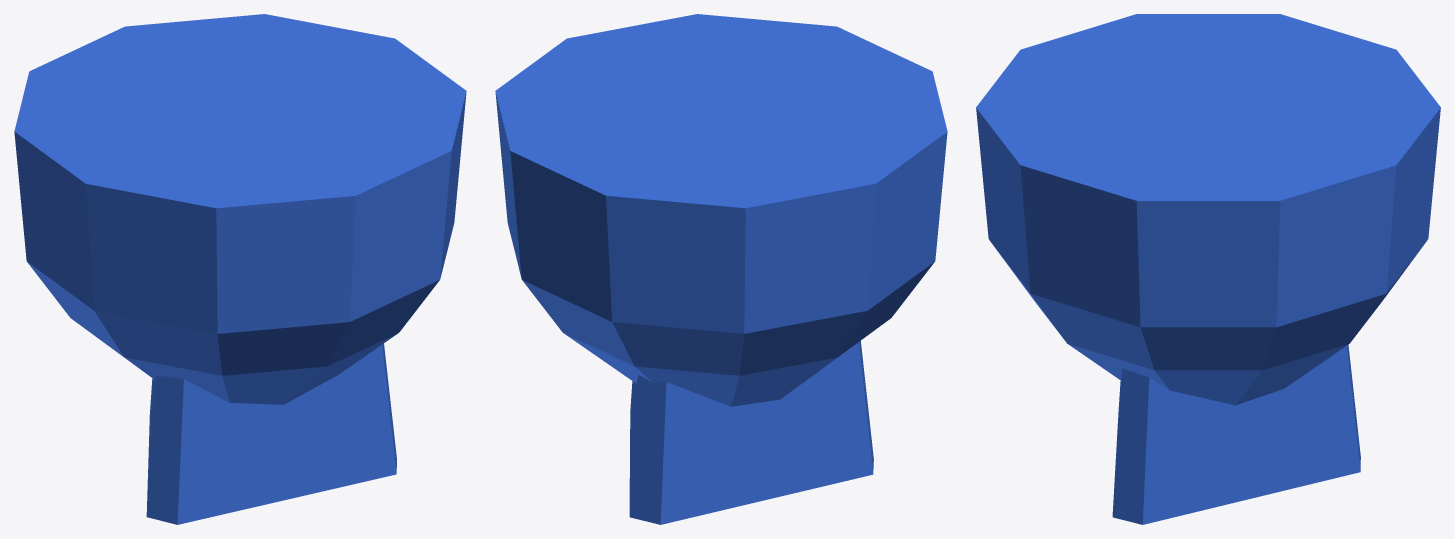
The model's file is Collision_Cauldron.fbx.
3 renders of one model, left to right at view 1: azimuth 30°, elevation 25°; view 2: azimuth 150°, elevation 25°; view 3: azimuth 270°, elevation 25°, orthographic.
Visible parts, largest first — view 1: UCX_Cauldron_1, UCX_Cauldron_2; view 2: UCX_Cauldron_1, UCX_Cauldron_2; view 3: UCX_Cauldron_1, UCX_Cauldron_2.
Boxes of the visible parts, bbox=[...] form: UCX_Cauldron_1: bbox=[14, 14, 466, 404]; UCX_Cauldron_2: bbox=[146, 343, 396, 524]; UCX_Cauldron_1: bbox=[495, 14, 947, 406]; UCX_Cauldron_2: bbox=[629, 340, 873, 524]; UCX_Cauldron_1: bbox=[976, 14, 1440, 405]; UCX_Cauldron_2: bbox=[1112, 344, 1360, 524].
Size of the model in its own units: 92.59 by 82.44 by 97.35.
